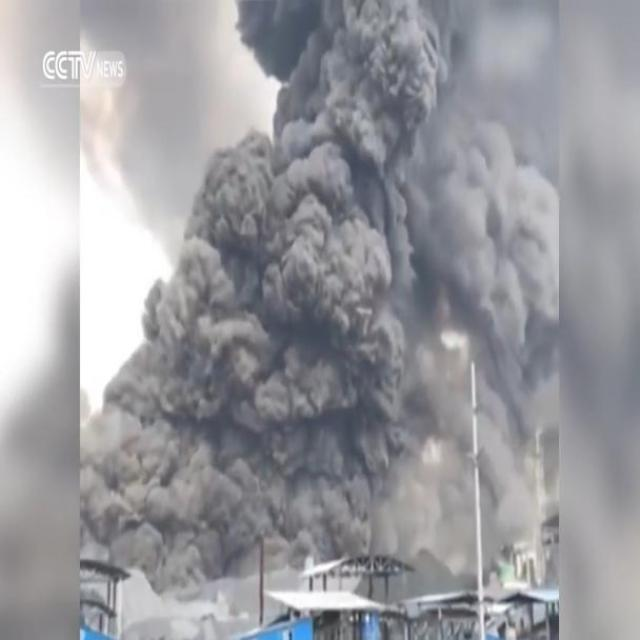Smoke: (252, 7, 548, 330), (96, 336, 446, 558)
